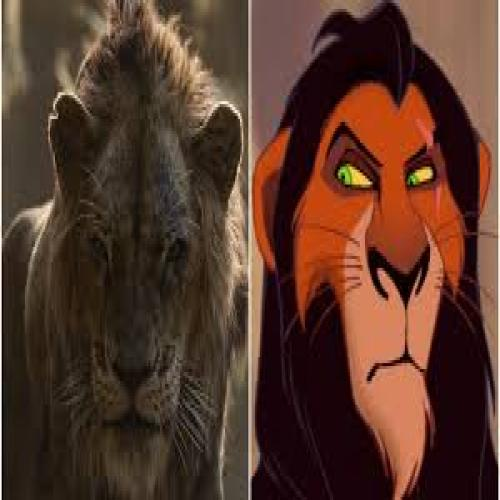lion-endangered: (0, 15, 238, 500), (255, 33, 500, 497)
